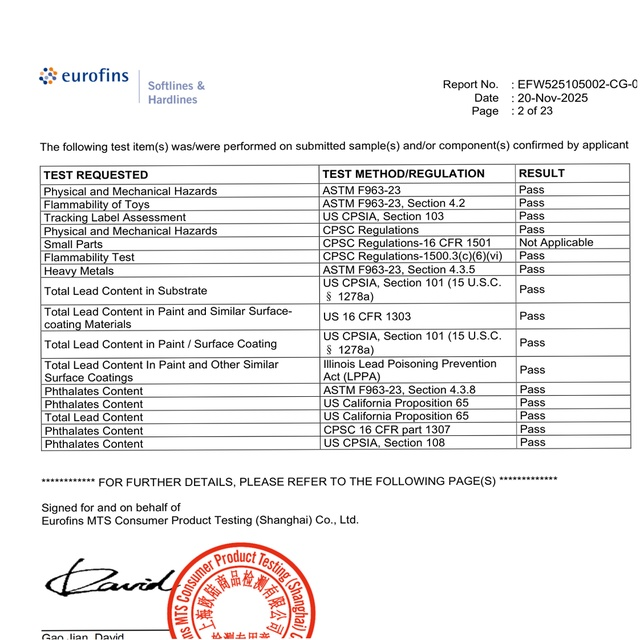eurofins: (38, 63, 133, 91)
